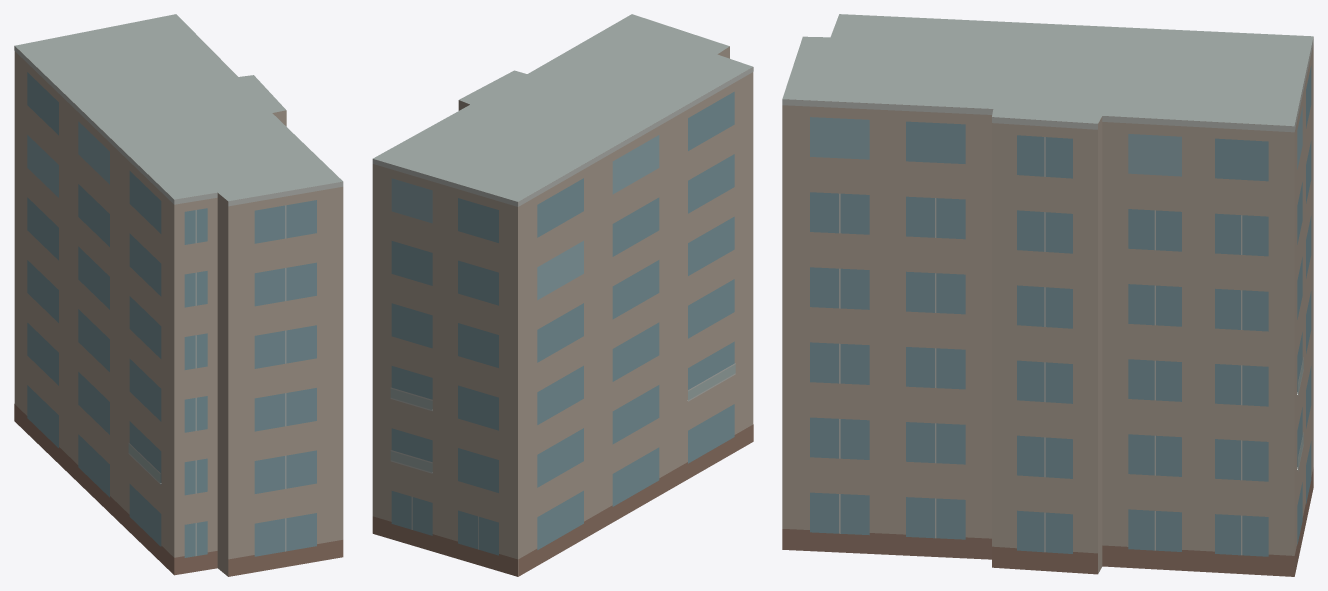
File: survey-upis-32983382.glb
The picture shows the model from 3 angles, left to right: view 1: azimuth 30°, elevation 25°; view 2: azimuth 150°, elevation 25°; view 3: azimuth 270°, elevation 25°; orthographic projection. The views are drawn at different scales.
Visible parts, largest first — view 1: survey-upis-32983382.tmp; view 2: survey-upis-32983382.tmp; view 3: survey-upis-32983382.tmp.
Part boxes in pixels (x1,y1,x2,y2): survey-upis-32983382.tmp: (14,14,343,576); survey-upis-32983382.tmp: (372,14,753,576); survey-upis-32983382.tmp: (782,14,1313,576).
Bounding box in the file's own units: 9.68 × 18.1 × 19.35.
